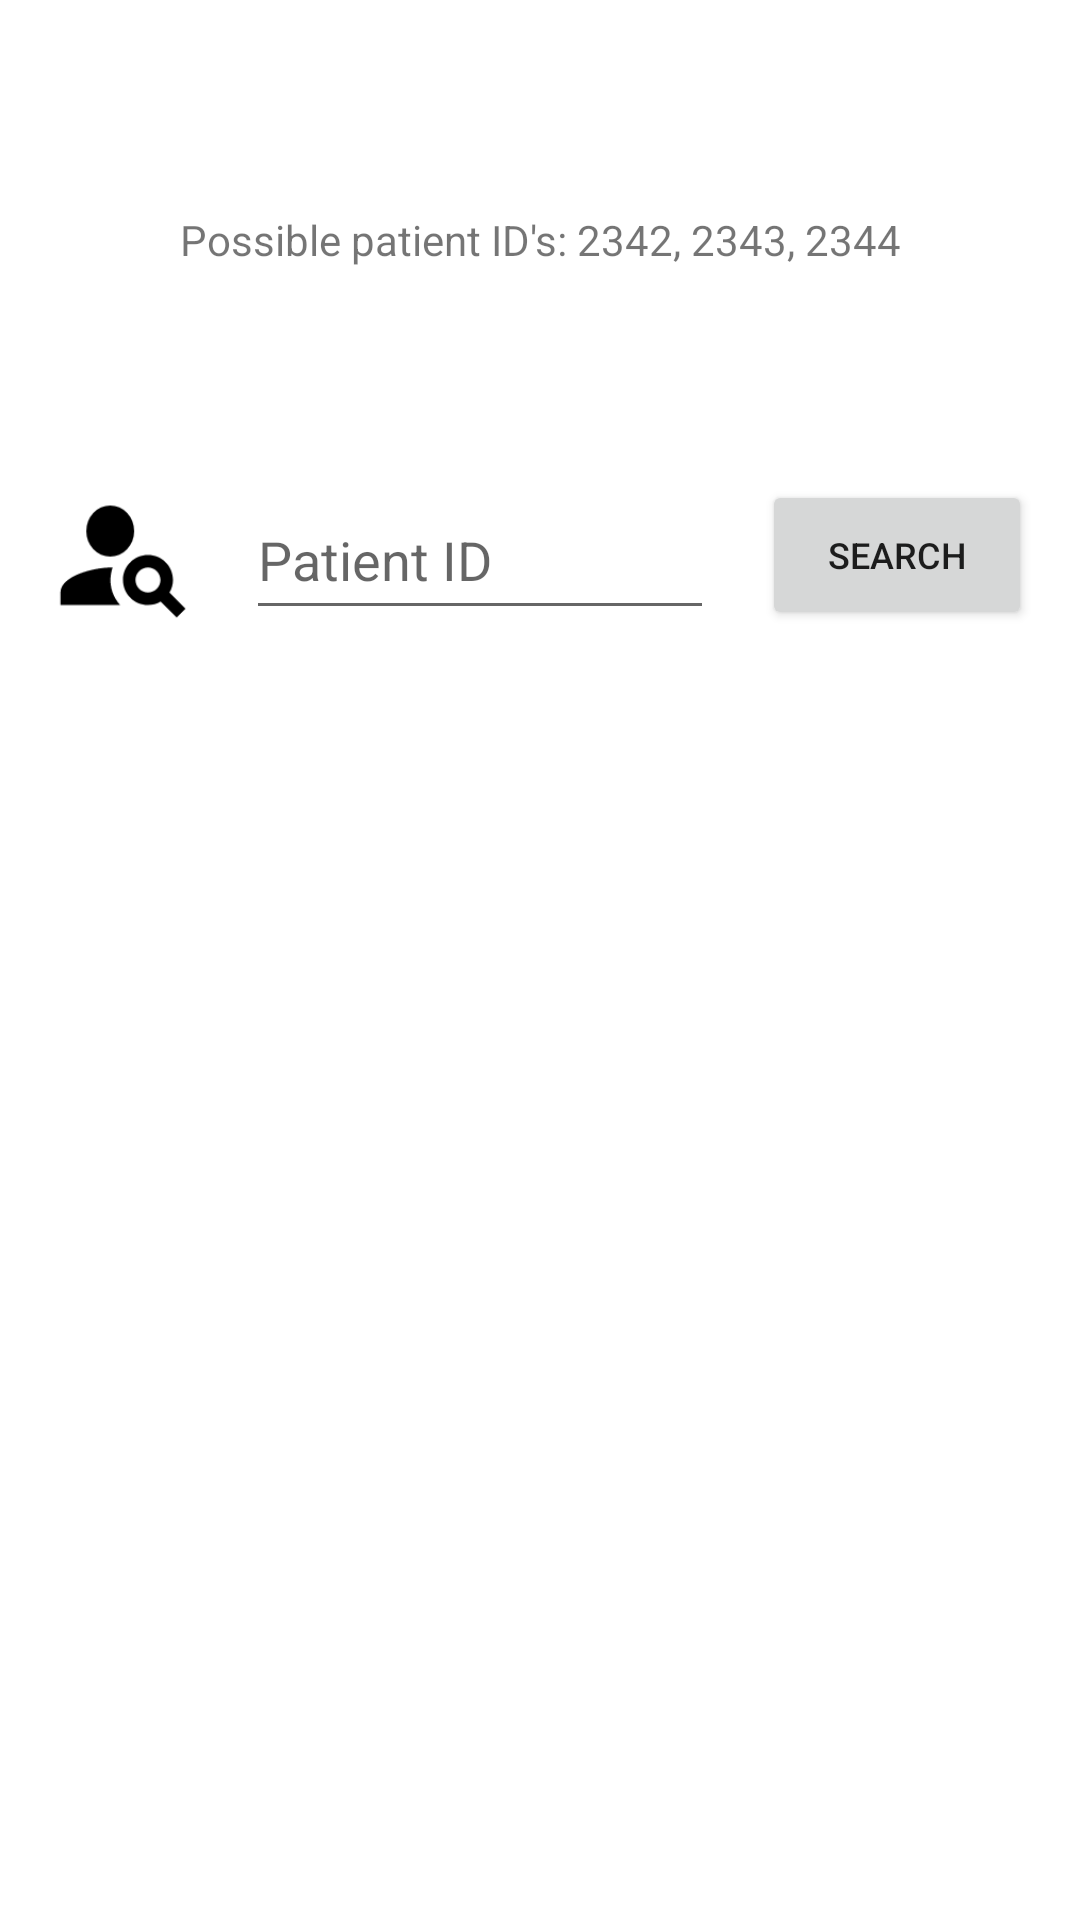

Screen size 1080w x 1920h. Icon name, then its center in pixels as point (x, y):
search: point (123, 561)
